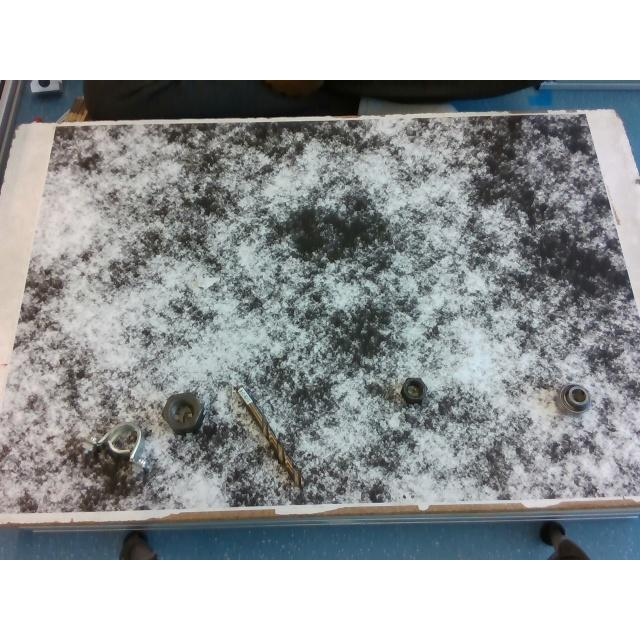Bearing2: (554, 383, 590, 412)
Drill: (234, 385, 302, 487)
Housing: (88, 422, 144, 466)
M20: (401, 378, 425, 402)
M30: (162, 392, 202, 434)
